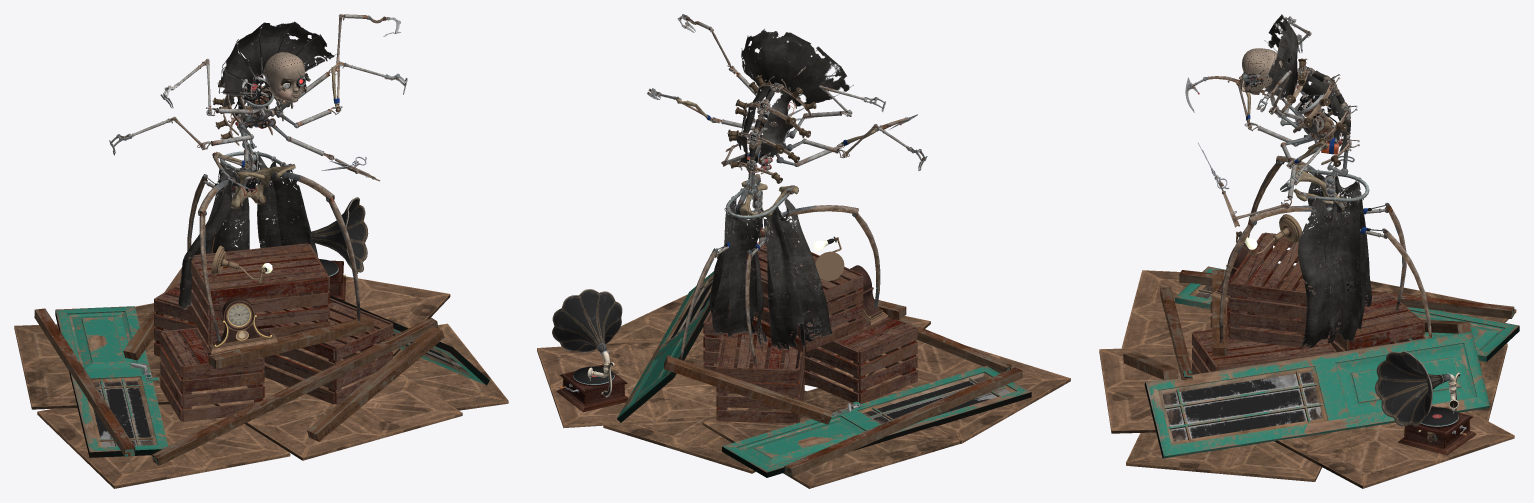
3 renders of one model, left to right at view 1: azimuth 30°, elevation 25°; view 2: azimuth 150°, elevation 25°; view 3: azimuth 270°, elevation 25°, orthographic. The views are drawn at different scales.
Parts seen in each view (by area): view 1: SM_Door_V01.002_136, PlanksBox_40x57.001_154, Tile04_low_144, Tile03_low_145, PlanksBox_40x40_152, PlanksBox_40x57_151, SM_Door_V01.004_138, Tile_low_142, Umbrella_4, Tile05_low_143, Skirt01_11, Tile02_low_146 (+15 smaller); view 2: SM_Door_V01.002_136, Tile02_low_146, PlanksBox_40x40_152, Skirt03_9, SM_Gramophone_V01_148, Tile_low_142, PlanksBox_40x40.001_153, Umbrella_4, Tile03_low_145, PlanksBox_40x57.001_154, SM_Door_V01.006_140, SM_Door_V01.003_137 (+12 smaller); view 3: SM_Door_V01.006_140, Skirt01_11, Tile02_low_146, PlanksBox_40x57.001_154, SM_Gramophone_V01_148, Tile05_low_143, Tile04_low_144, Tile03_low_145, PlanksBox_40x57_151, PlanksBox_40x40.001_153, SM_Door_V01.002_136, SM_Door_V01.003_137 (+18 smaller).
Boxes of the visible parts, x1,y1,x2,y2 form: SM_Door_V01.002_136: [55, 306, 168, 457]; PlanksBox_40x57.001_154: [188, 243, 329, 345]; Tile04_low_144: [214, 351, 462, 460]; Tile03_low_145: [37, 404, 290, 488]; PlanksBox_40x40_152: [160, 327, 264, 421]; PlanksBox_40x57_151: [255, 298, 393, 404]; SM_Door_V01.004_138: [152, 317, 438, 465]; Tile_low_142: [14, 320, 221, 409]; Umbrella_4: [219, 22, 334, 95]; Tile05_low_143: [393, 323, 508, 410]; Skirt01_11: [257, 156, 317, 294]; Tile02_low_146: [277, 276, 450, 356]; SM_Door_V01.002_136: [722, 365, 1031, 477]; Tile02_low_146: [537, 338, 744, 427]; PlanksBox_40x40_152: [804, 308, 917, 403]; Skirt03_9: [762, 199, 832, 350]; SM_Gramophone_V01_148: [552, 289, 628, 412]; Tile_low_142: [702, 387, 960, 488]; PlanksBox_40x40.001_153: [716, 333, 804, 423]; Umbrella_4: [741, 29, 849, 106]; Tile03_low_145: [870, 340, 1070, 443]; PlanksBox_40x57.001_154: [728, 245, 863, 351]; SM_Door_V01.006_140: [617, 271, 713, 422]; SM_Door_V01.003_137: [784, 367, 1022, 476]; SM_Door_V01.006_140: [1144, 331, 1489, 458]; Skirt01_11: [1298, 198, 1361, 348]; Tile02_low_146: [1274, 411, 1514, 488]; PlanksBox_40x57.001_154: [1228, 232, 1341, 348]; SM_Gramophone_V01_148: [1375, 351, 1476, 455]; Tile05_low_143: [1126, 432, 1321, 481]; Tile04_low_144: [1099, 346, 1193, 433]; Tile03_low_145: [1121, 270, 1212, 348]; PlanksBox_40x57_151: [1192, 318, 1336, 374]; PlanksBox_40x40.001_153: [1327, 291, 1424, 352]; SM_Door_V01.002_136: [1175, 266, 1519, 361]; SM_Door_V01.003_137: [1179, 270, 1514, 318].
Bounding box in the file's own units: 2.23 × 1.74 × 1.81.
Materials: 9 (9 with a texture image).
